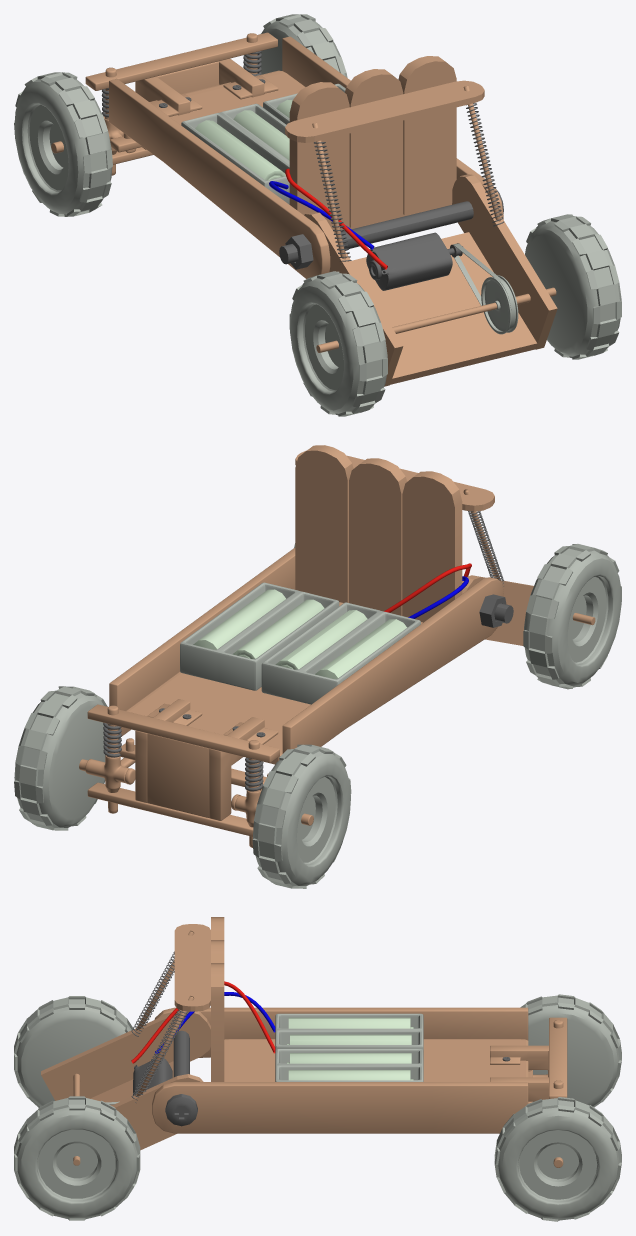
Rendered from Monster_rc.glb.
3 renders of one model, top to bottom at view 1: azimuth 30°, elevation 25°; view 2: azimuth 150°, elevation 25°; view 3: azimuth 270°, elevation 25°, orthographic. The views are drawn at different scales.
Parts seen in each view (by area): view 1: Cylinder.004, Cube.003, Cylinder.005, Cube, Cube.004, Cube.001, Cube.008, Cube.005, Cube.009, Cube.013, Cube.010, Cylinder (+13 smaller); view 2: Cube.003, Cylinder.005, Cube, Cube.009, Cylinder.004, Cube.002, Cube.012, Cube.010, Cylinder.007, Cylinder.008, Cube.013, Cylinder.006 (+5 smaller); view 3: Cube, Cylinder.004, Cylinder.005, Cube.001, Cube.002, Cube.009, Cube.008, Cylinder.007, Cylinder.008, Cube.003, Cube.010, Cylinder (+6 smaller).
Part boxes in pixels (left/top/right/bottom): Cylinder.004: left=289, top=214, right=621, bottom=416; Cube.003: left=289, top=56, right=456, bottom=231; Cylinder.005: left=14, top=14, right=347, bottom=216; Cube: left=109, top=36, right=503, bottom=278; Cube.004: left=351, top=232, right=537, bottom=384; Cube.001: left=304, top=174, right=557, bottom=386; Cube.008: left=285, top=80, right=484, bottom=142; Cube.005: left=366, top=232, right=462, bottom=290; Cube.009: left=181, top=83, right=345, bottom=204; Cube.013: left=85, top=32, right=277, bottom=90; Cube.010: left=135, top=58, right=278, bottom=149; Cylinder: left=279, top=189, right=503, bottom=264; Cube.003: left=295, top=445, right=462, bottom=622; Cylinder.005: left=14, top=686, right=351, bottom=888; Cube: left=109, top=547, right=503, bottom=753; Cube.009: left=180, top=582, right=420, bottom=704; Cylinder.004: left=294, top=543, right=621, bottom=689; Cube.002: left=126, top=602, right=422, bottom=764; Cube.012: left=147, top=733, right=209, bottom=817; Cube.010: left=135, top=699, right=278, bottom=820; Cylinder.007: left=193, top=589, right=407, bottom=678; Cylinder.008: left=232, top=599, right=367, bottom=669; Cube.013: left=87, top=704, right=279, bottom=762; Cylinder.006: left=79, top=705, right=313, bottom=847; Cube: left=152, top=1007, right=528, bottom=1133; Cylinder.004: left=14, top=996, right=140, bottom=1220; Cylinder.005: left=494, top=994, right=621, bottom=1221; Cube.001: left=41, top=1010, right=210, bottom=1150; Cube.002: left=224, top=1039, right=528, bottom=1081; Cube.009: left=275, top=1013, right=423, bottom=1081; Cube.008: left=174, top=924, right=210, bottom=1011; Cylinder.007: left=288, top=1017, right=413, bottom=1080; Cylinder.008: left=287, top=1034, right=411, bottom=1063; Cube.003: left=211, top=917, right=224, bottom=1081; Cube.010: left=490, top=1045, right=548, bottom=1101; Cylinder: left=165, top=1030, right=197, bottom=1126.
Size of the model in its own units: 1 by 0.8687 by 2.17.
